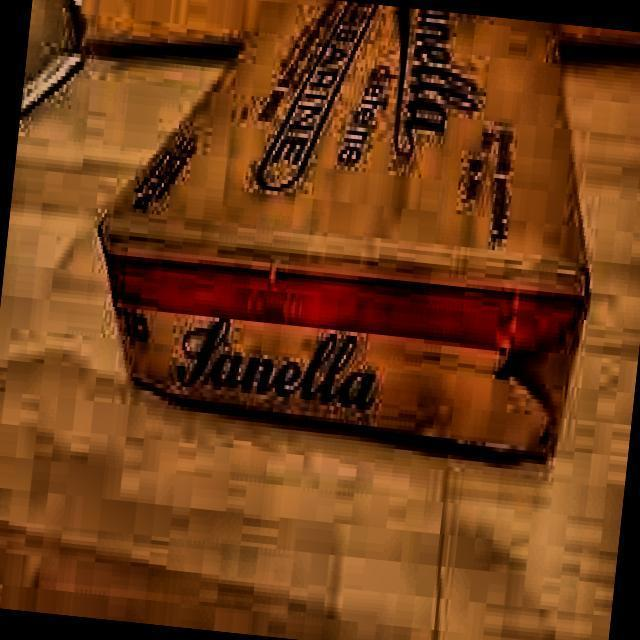cardboard: (76, 0, 618, 463)
